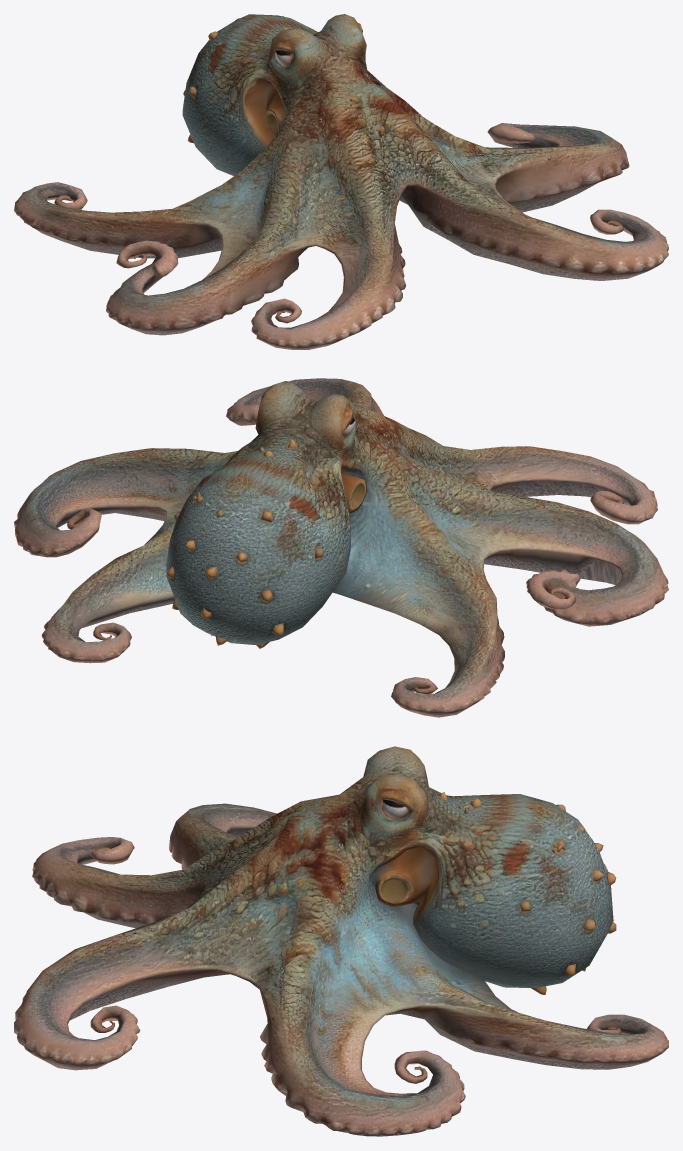
The model's file is octopus.glb.
3 renders of one model, top to bottom at view 1: azimuth 30°, elevation 25°; view 2: azimuth 150°, elevation 25°; view 3: azimuth 270°, elevation 25°, orthographic. The views are drawn at different scales.
Visible parts, largest first — view 1: tripo_node_e0ef56c0-d02d-446e-b0b4-10c36aaa772b; view 2: tripo_node_e0ef56c0-d02d-446e-b0b4-10c36aaa772b; view 3: tripo_node_e0ef56c0-d02d-446e-b0b4-10c36aaa772b.
Part boxes in pixels (bbox=[...]): tripo_node_e0ef56c0-d02d-446e-b0b4-10c36aaa772b: bbox=[14, 14, 668, 349]; tripo_node_e0ef56c0-d02d-446e-b0b4-10c36aaa772b: bbox=[14, 378, 668, 717]; tripo_node_e0ef56c0-d02d-446e-b0b4-10c36aaa772b: bbox=[14, 746, 668, 1136].
Size of the model in its own units: 0.847 by 0.3 by 0.7641.
1 material, 1 textured.
